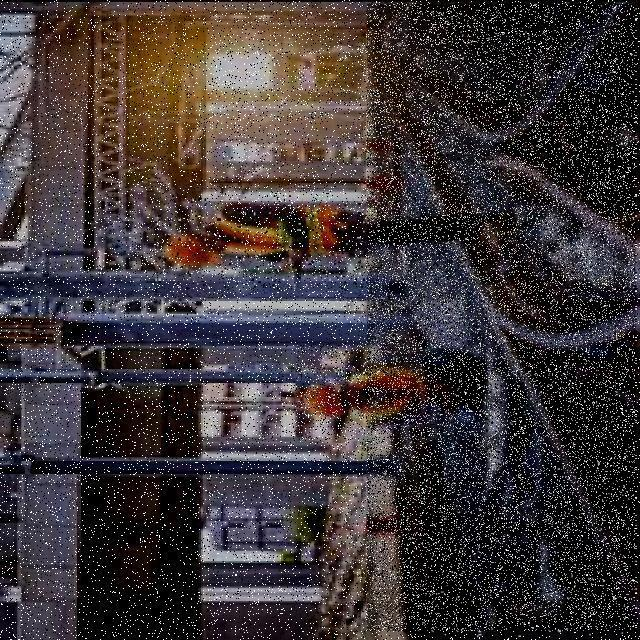rail: (368, 6, 637, 631)
